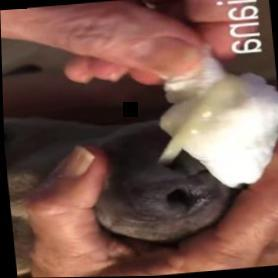nasal_discharge: (138, 73, 251, 179)
